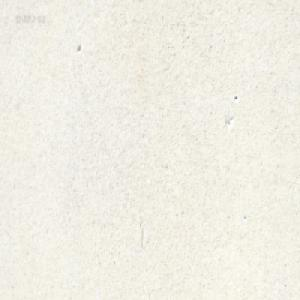Wrench: (146, 0, 152, 4)
